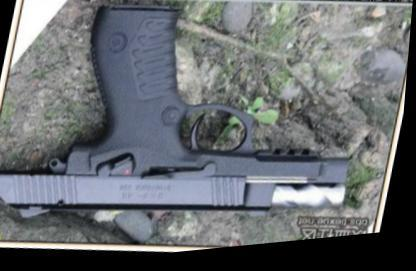pistol: (0, 0, 399, 254)
